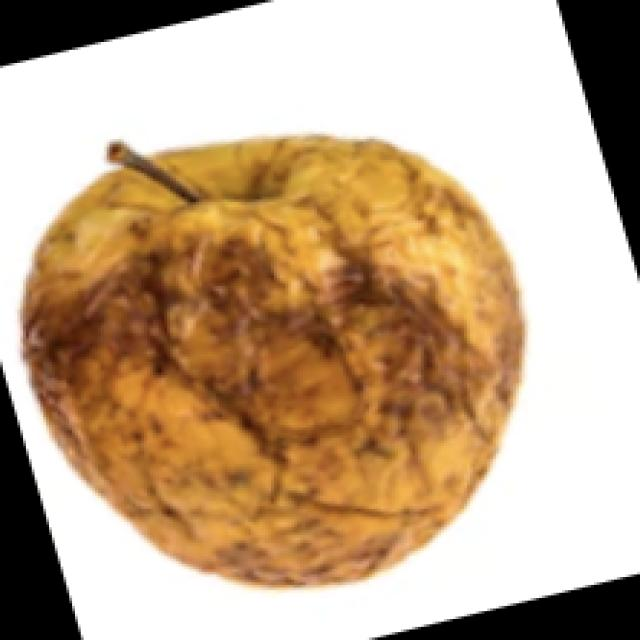organik: (9, 32, 582, 619)
